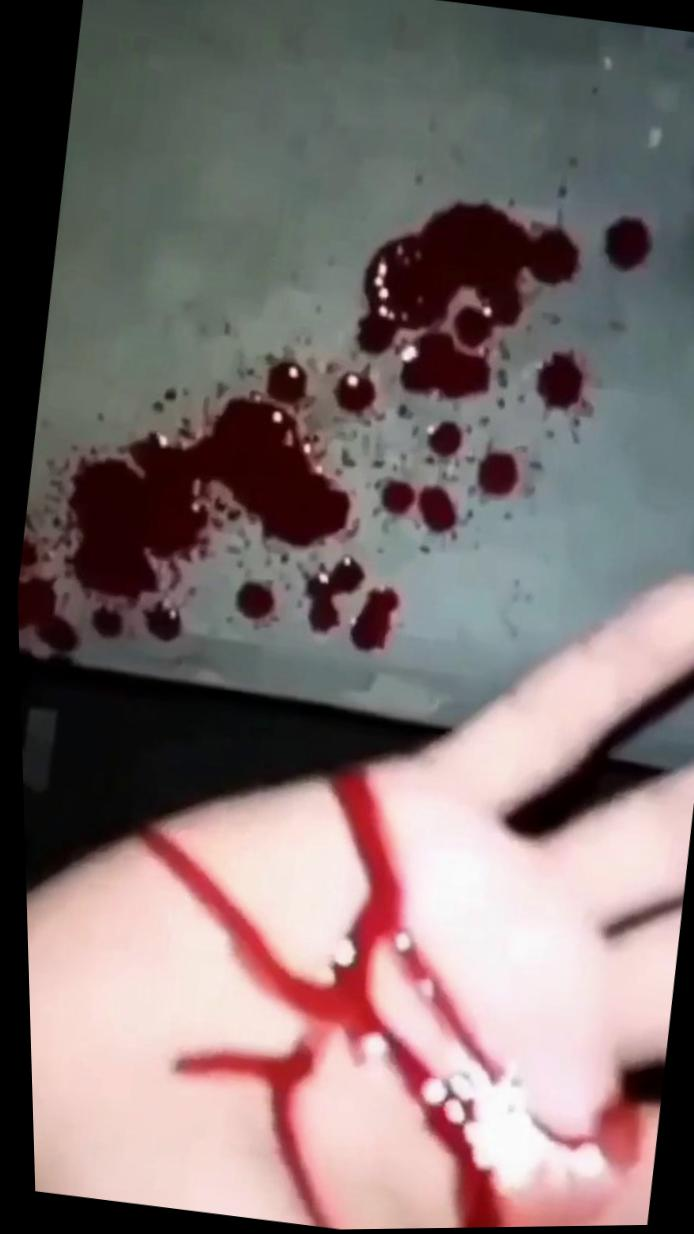Fire: (14, 204, 579, 693), (134, 773, 515, 1230), (506, 1098, 633, 1183), (534, 352, 590, 416), (604, 218, 650, 271)
